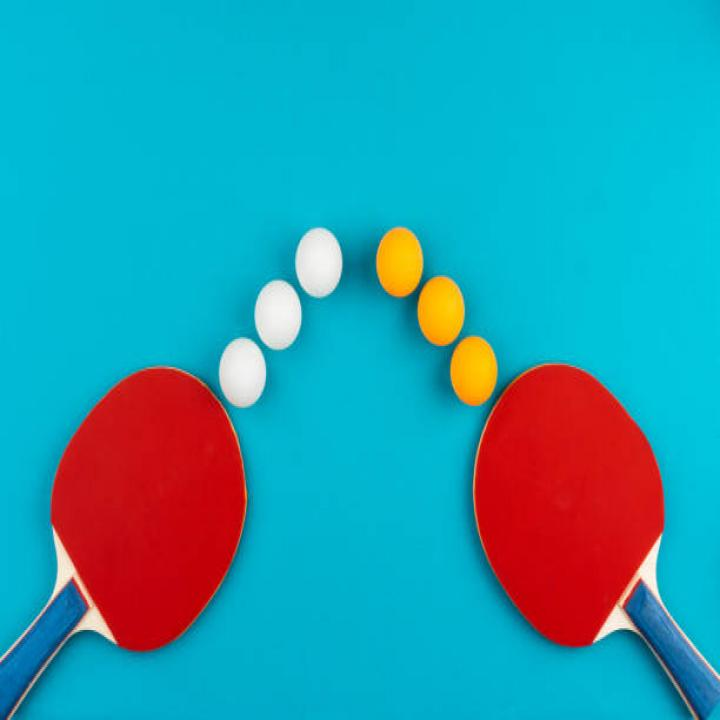orange: (450, 337, 498, 404), (374, 228, 422, 294), (418, 277, 464, 344)
white: (252, 280, 300, 348), (219, 339, 267, 406), (294, 228, 342, 294)
